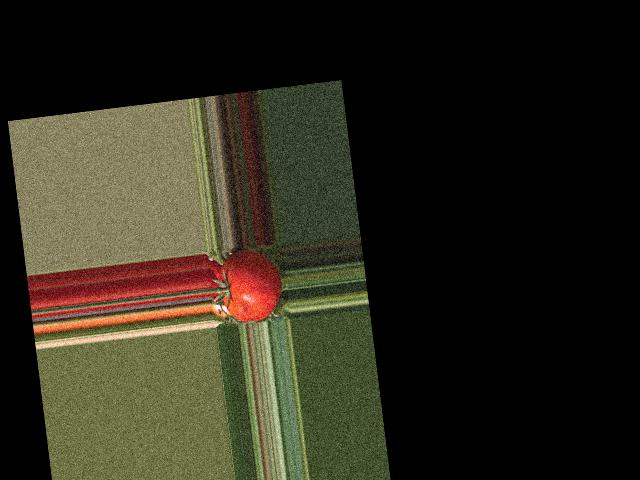tomato: (216, 246, 285, 325)
